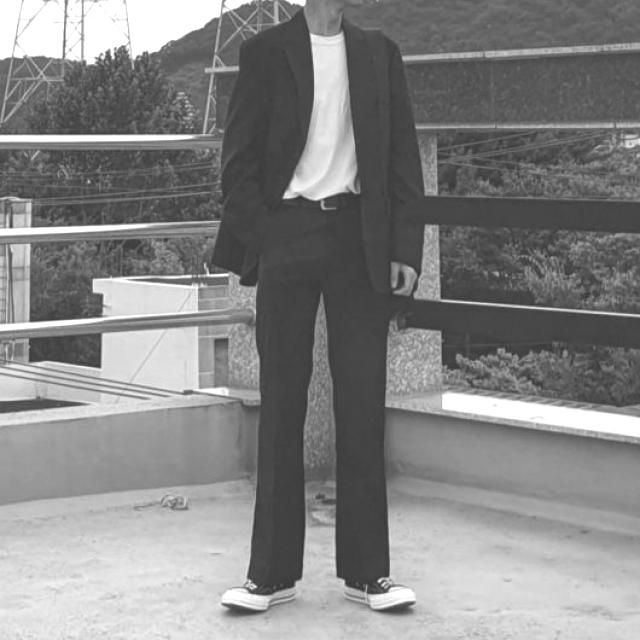blazer: (211, 8, 423, 291)
slacks: (252, 196, 398, 592)
